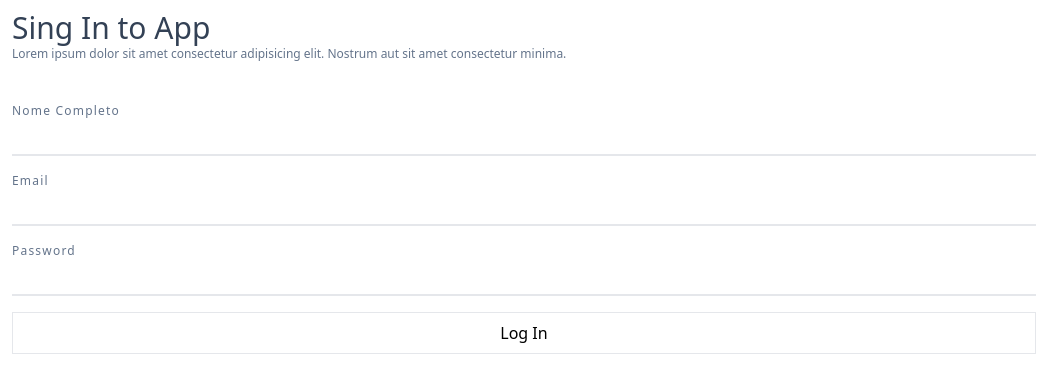
Test: Register › should display min length error when password is invalid
This screenshot has width=1048, height=391.
Type "Doe Joe" into the field labelled "Nome Completo" at (524, 138), box [12,120,1036,156]
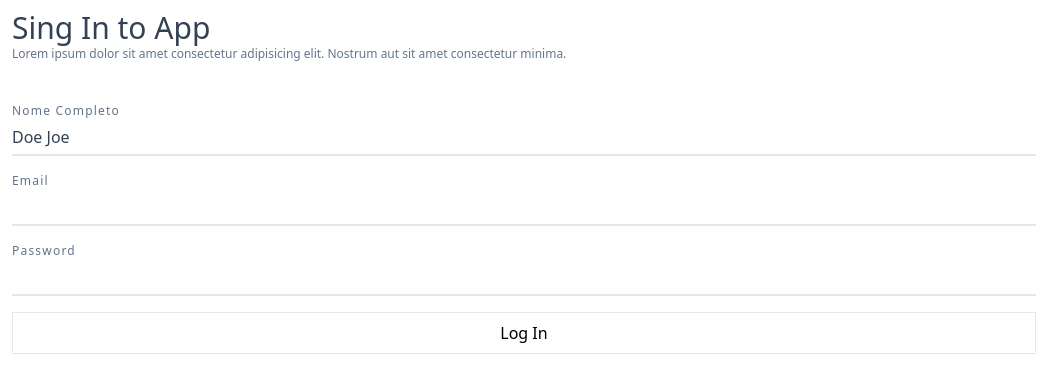
Type "test@mail.com" into the field labelled "Email" at (524, 208), box [12,190,1036,226]
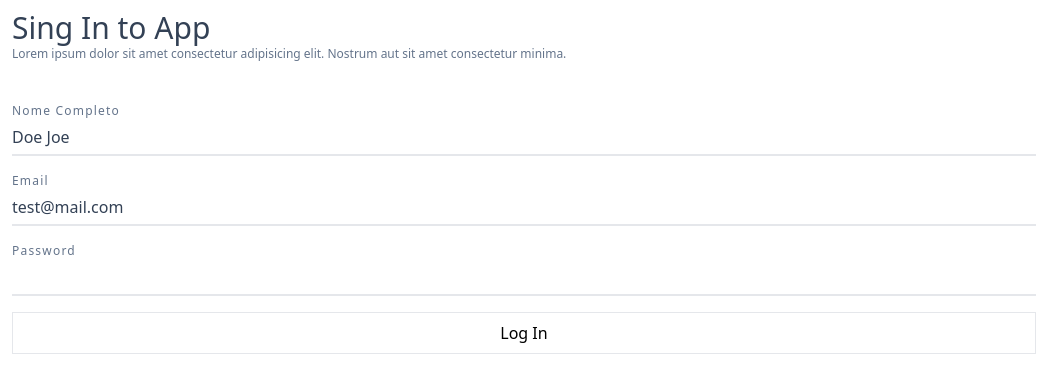
Type "12" into the password field labelled "Password" at (524, 278), box [12,260,1036,296]
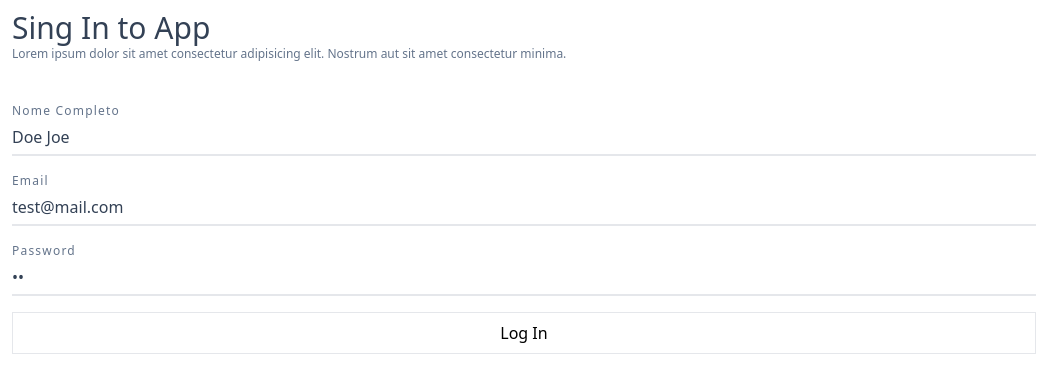
Submit the form from the button, box [12,312,1036,354]
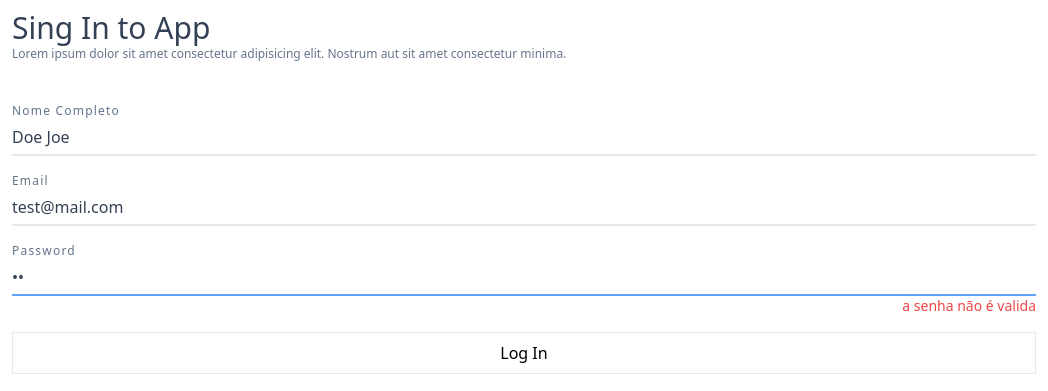
Now the number of messages is 1, box [902,296,1036,315]
